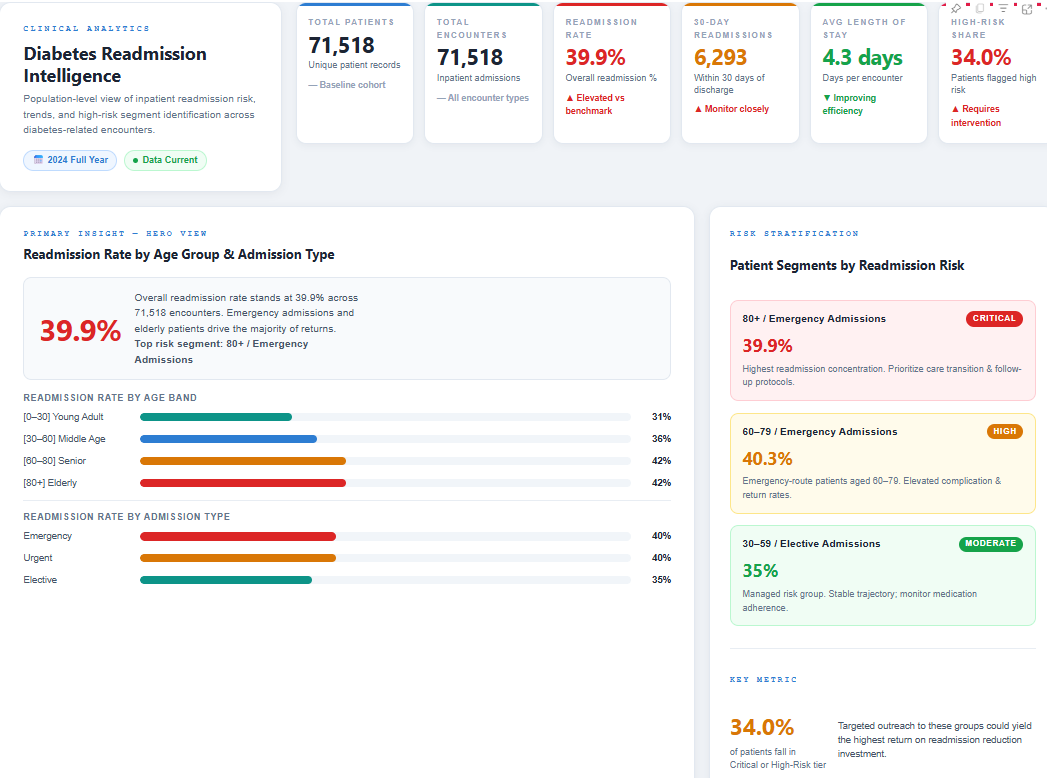

What the dashboard file says about the page in this screenshot:
{"tool":"powerbi","page":{"name":"Dashboard","canvas":[1280,1500],"ordinal":0},"visuals":[{"type":"htmlContent443BE3AD55E043BF878BED274D3A6855","fields":{"content":["diabetic_data_cleaned.Dashboard HTML"]},"box":[0,0,1280,1500],"z":0}]}

Visuals, with their boxes on the page's 1280x1500 design canvas (x1, y1, x2, y2). These are canvas units, not pixel positions in the 1047x778 screenshot, which may show the page scaled, cropped or inside an application window:
htmlContent443BE3AD55E043BF878BED274D3A6855 - diabetic_data_cleaned.Dashboard HTML: 0 0 1280 1500
